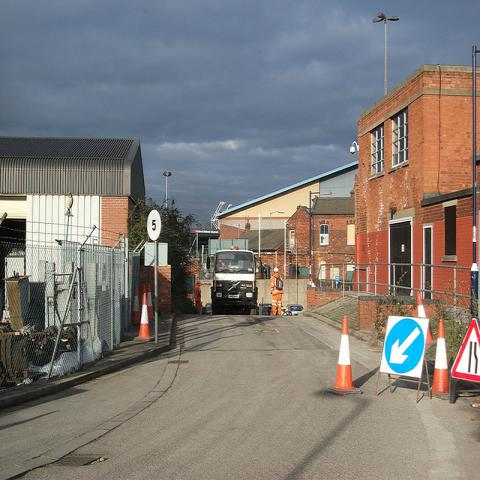truck: (210, 246, 258, 314)
